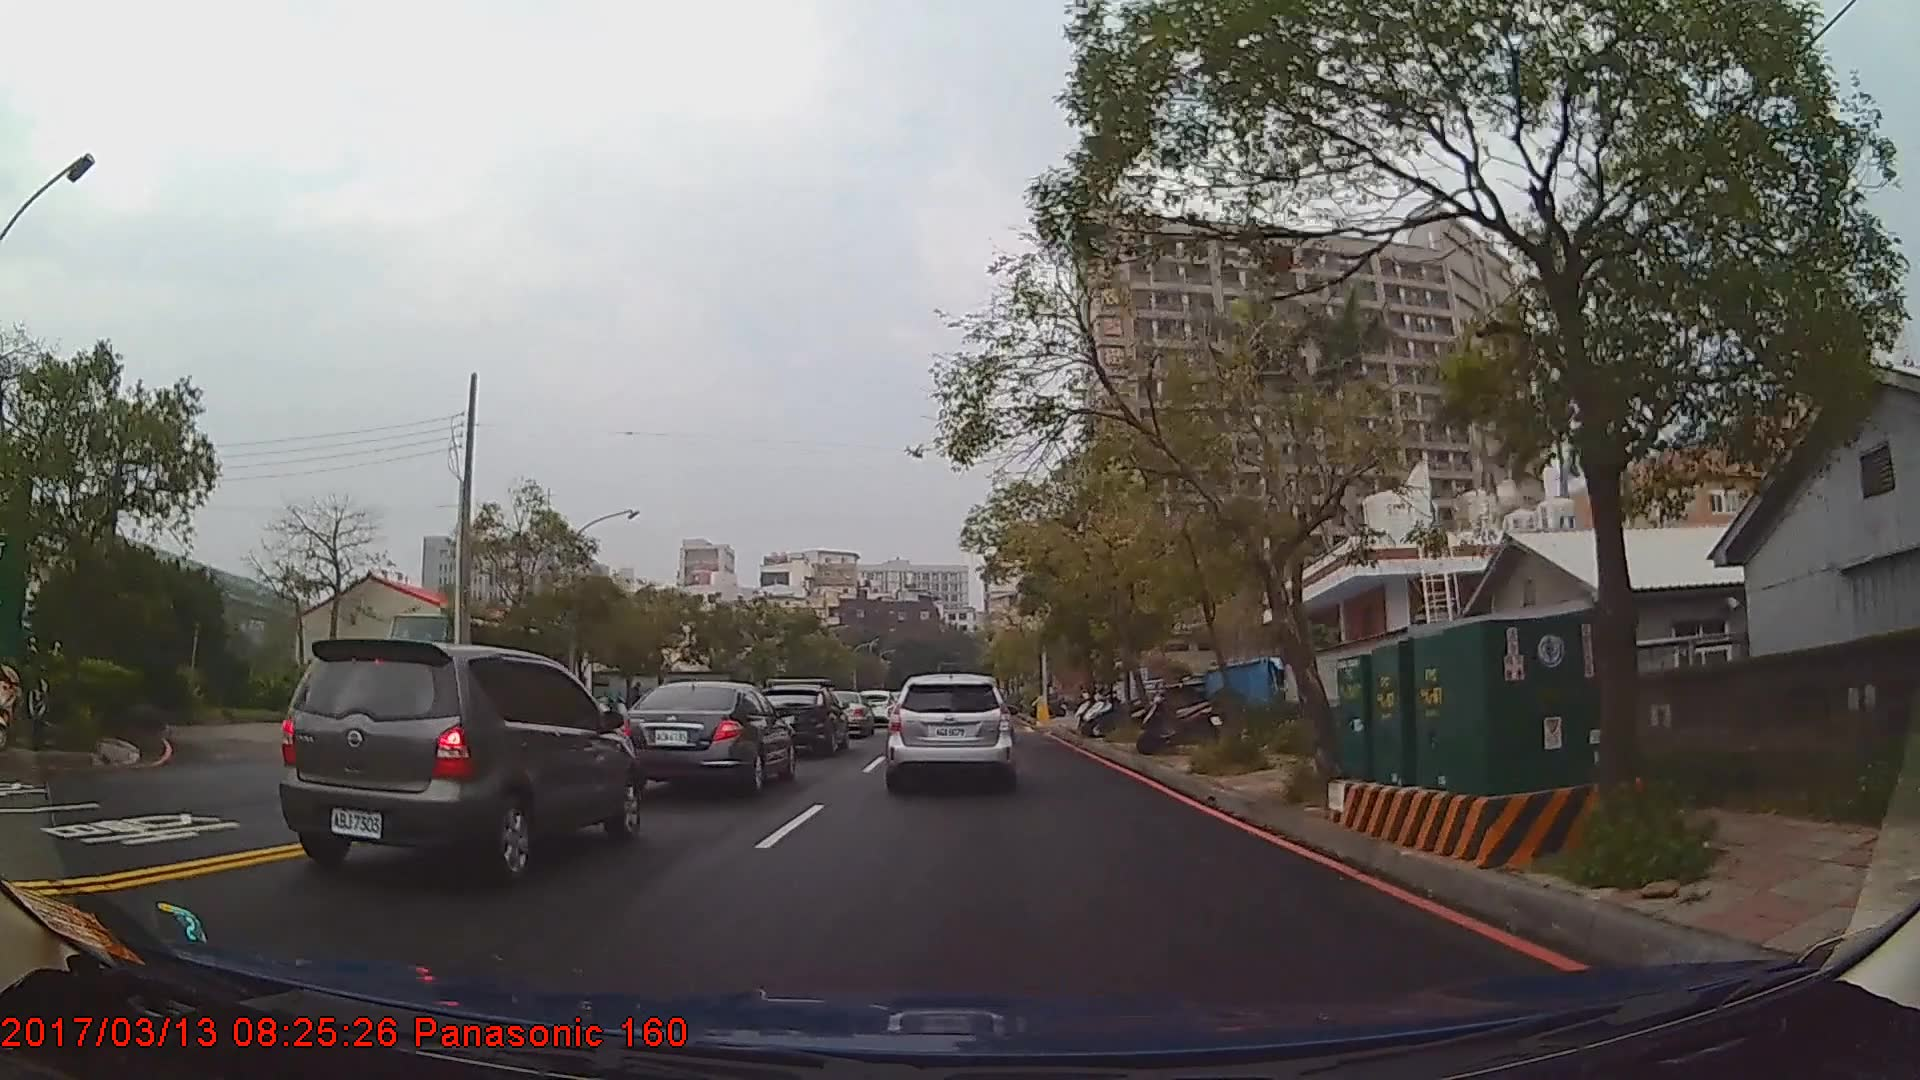vehicle: (276, 636, 640, 878), (615, 676, 798, 793), (886, 669, 1017, 786), (752, 683, 848, 756), (818, 688, 872, 735)
